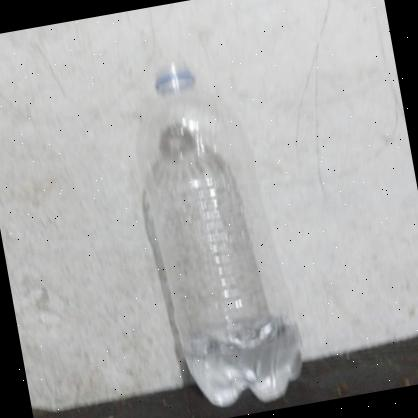bottle: (105, 38, 316, 418)
